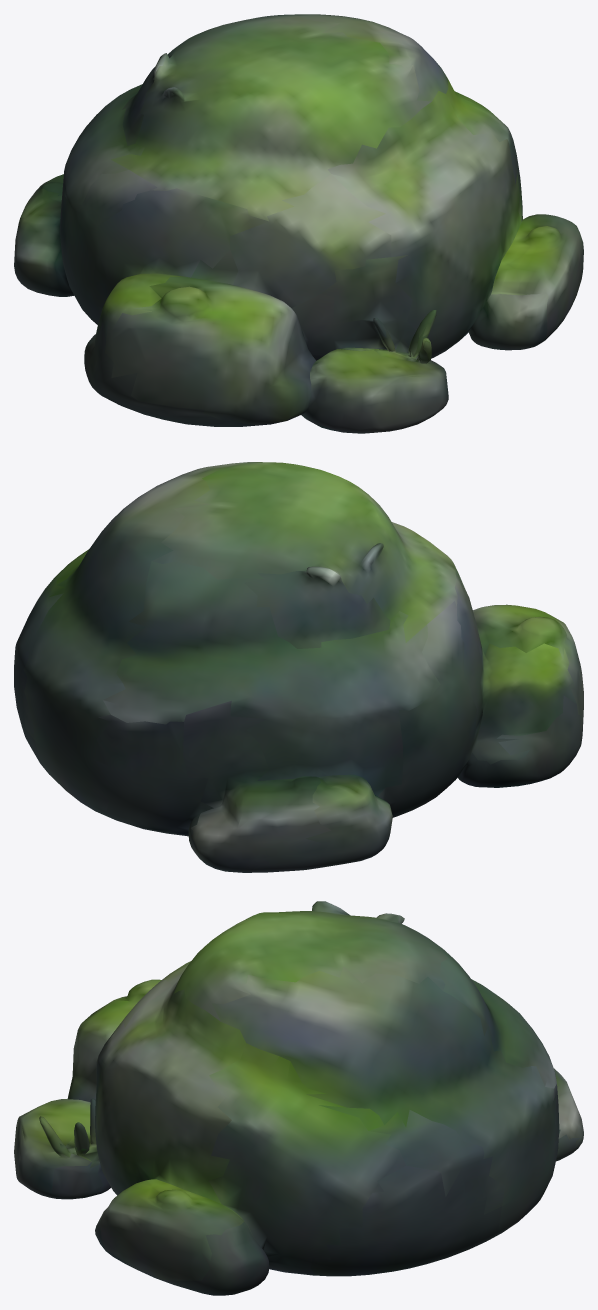
Rendered from f05_pedra_musgo.glb.
3 views of the same model, one above another, from view 1: azimuth 30°, elevation 25°; view 2: azimuth 150°, elevation 25°; view 3: azimuth 270°, elevation 25° (orthographic). The views are drawn at different scales.
Parts seen in each view (by area): view 1: f05_pedra_musgo; view 2: f05_pedra_musgo; view 3: f05_pedra_musgo.
Part boxes in pixels (x1=…): f05_pedra_musgo: x1=14, y1=14, x2=583, y2=433; f05_pedra_musgo: x1=14, y1=462, x2=583, y2=872; f05_pedra_musgo: x1=14, y1=901, x2=583, y2=1295.
Size of the model in its own units: 0.8159 by 0.4214 by 0.8413.
Materials: 1 (1 with a texture image).
